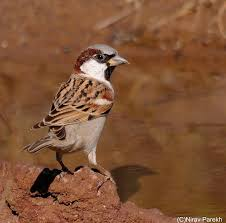hsparrow: (22, 37, 132, 187)
